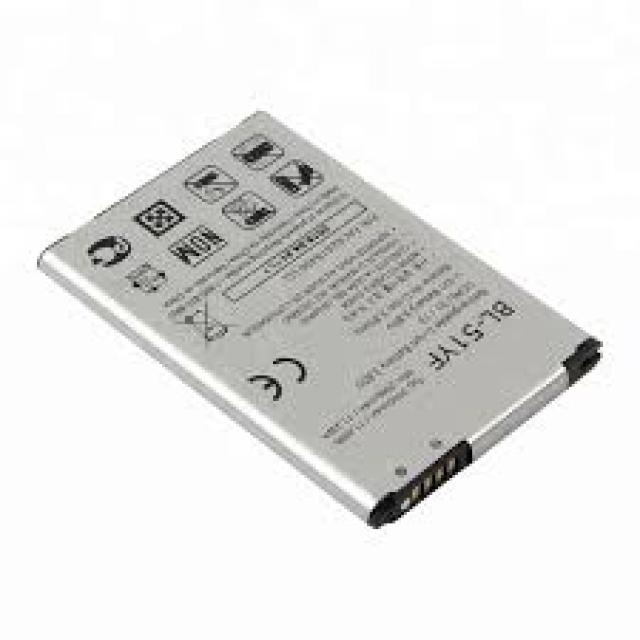non-organic waste: (38, 108, 600, 531)
